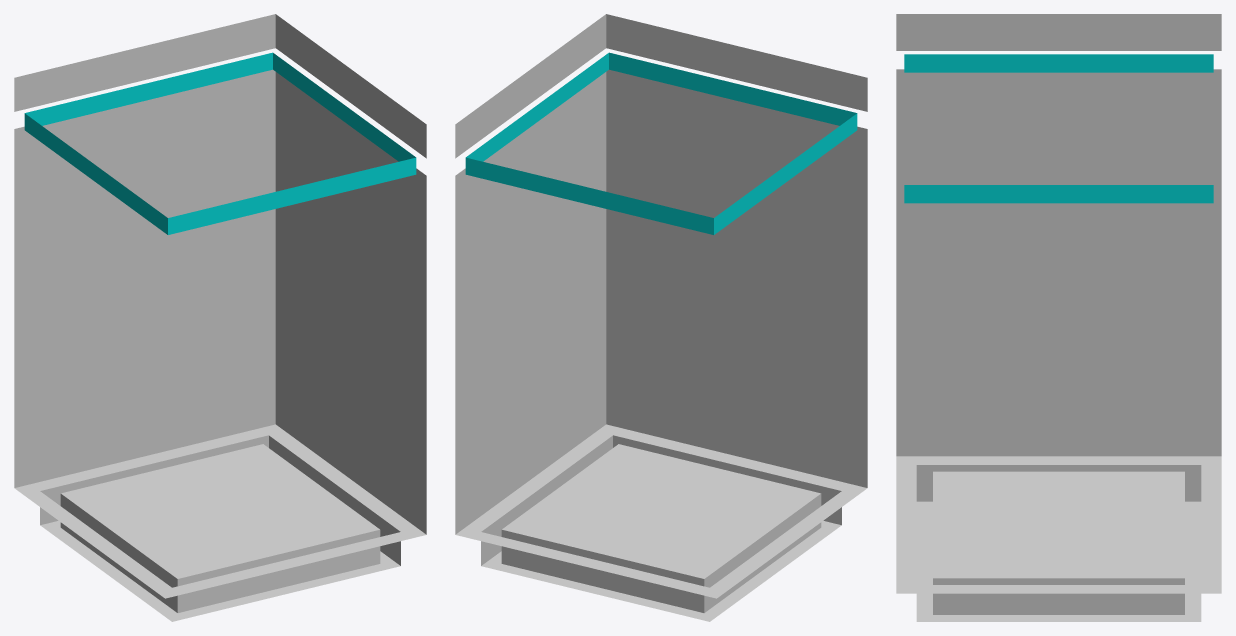
The model's file is standee-04.glb.
The picture shows the model from 3 angles, left to right: view 1: azimuth 30°, elevation 25°; view 2: azimuth 150°, elevation 25°; view 3: azimuth 270°, elevation 25°; orthographic projection. The views are drawn at different scales.
Parts seen in each view (by area): view 1: 3DGeom-13, 3DGeom-14; view 2: 3DGeom-13, 3DGeom-14; view 3: 3DGeom-13, 3DGeom-14.
Part boxes in pixels (box(x1,y1,x2,y2)): 3DGeom-13: box(14, 14, 426, 621); 3DGeom-14: box(24, 52, 416, 234); 3DGeom-13: box(455, 14, 867, 621); 3DGeom-14: box(465, 52, 857, 234); 3DGeom-13: box(896, 14, 1221, 621); 3DGeom-14: box(904, 54, 1213, 203).
Bounding box in the file's own units: 0.4 × 0.65 × 0.4.
